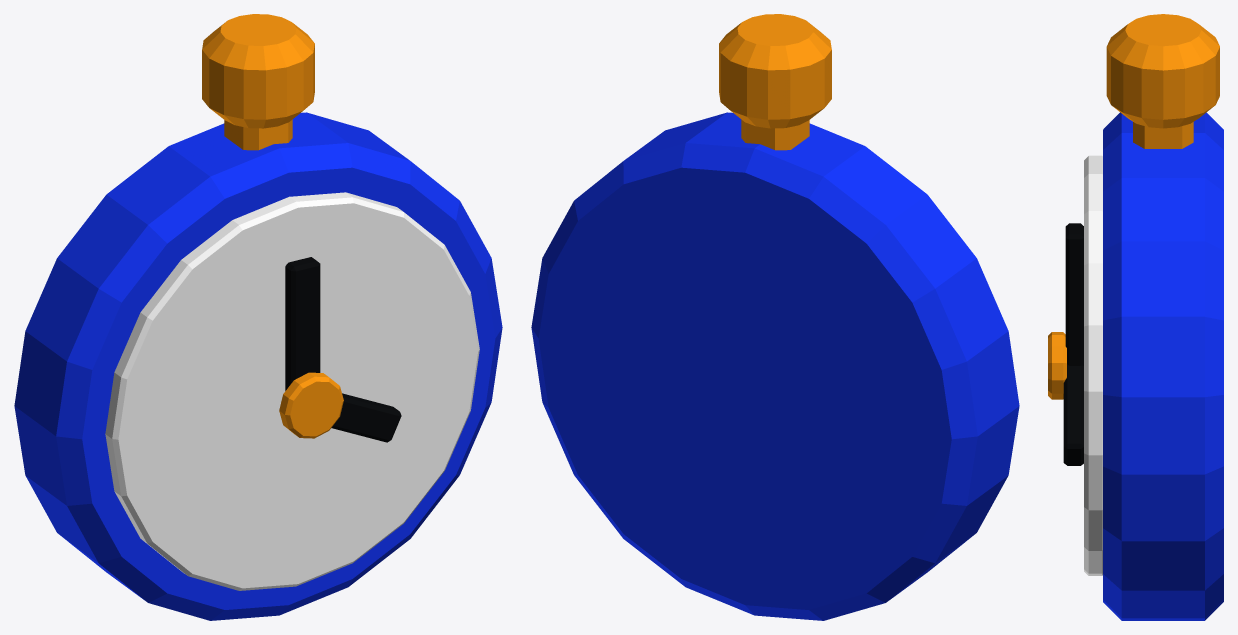
File: PWR_slow_motion__v001__model.fbx
3 views of the same model, side by side, from view 1: azimuth 30°, elevation 25°; view 2: azimuth 150°, elevation 25°; view 3: azimuth 270°, elevation 25° (orthographic).
Visible parts, largest first — view 1: PWR_slow_motion_Mesh; view 2: PWR_slow_motion_Mesh; view 3: PWR_slow_motion_Mesh.
Part boxes in pixels (box(x1,y1,x2,y2)): PWR_slow_motion_Mesh: box(14, 14, 502, 620); PWR_slow_motion_Mesh: box(531, 14, 1019, 620); PWR_slow_motion_Mesh: box(1048, 14, 1223, 620).
Size of the model in its own units: 0.68 by 0.83 by 0.2325.
Materials: 1 (1 with a texture image).
